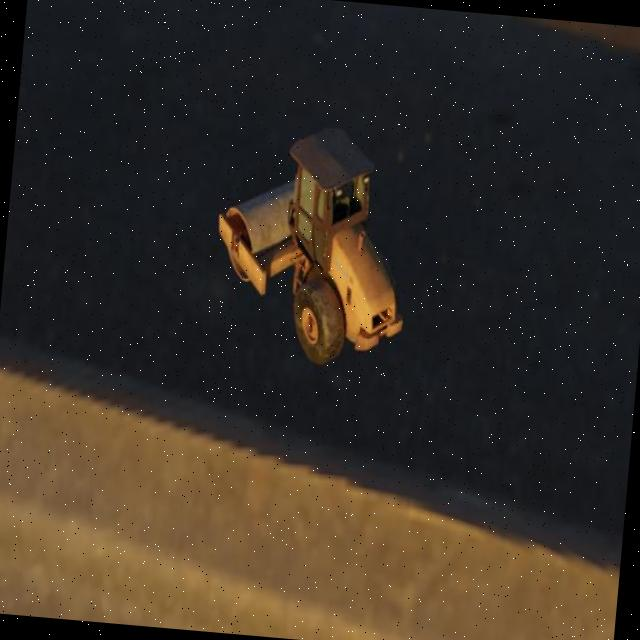Roller: (206, 117, 418, 370)
